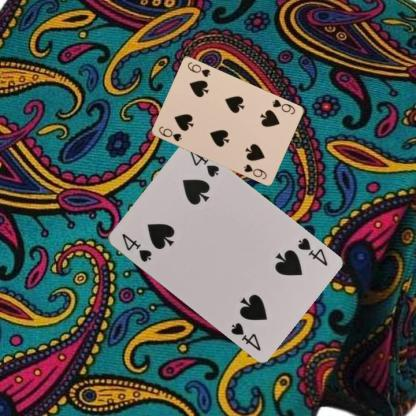4s: (118, 230, 152, 264), (294, 235, 329, 268)
6s: (269, 96, 296, 115), (156, 124, 183, 142)
